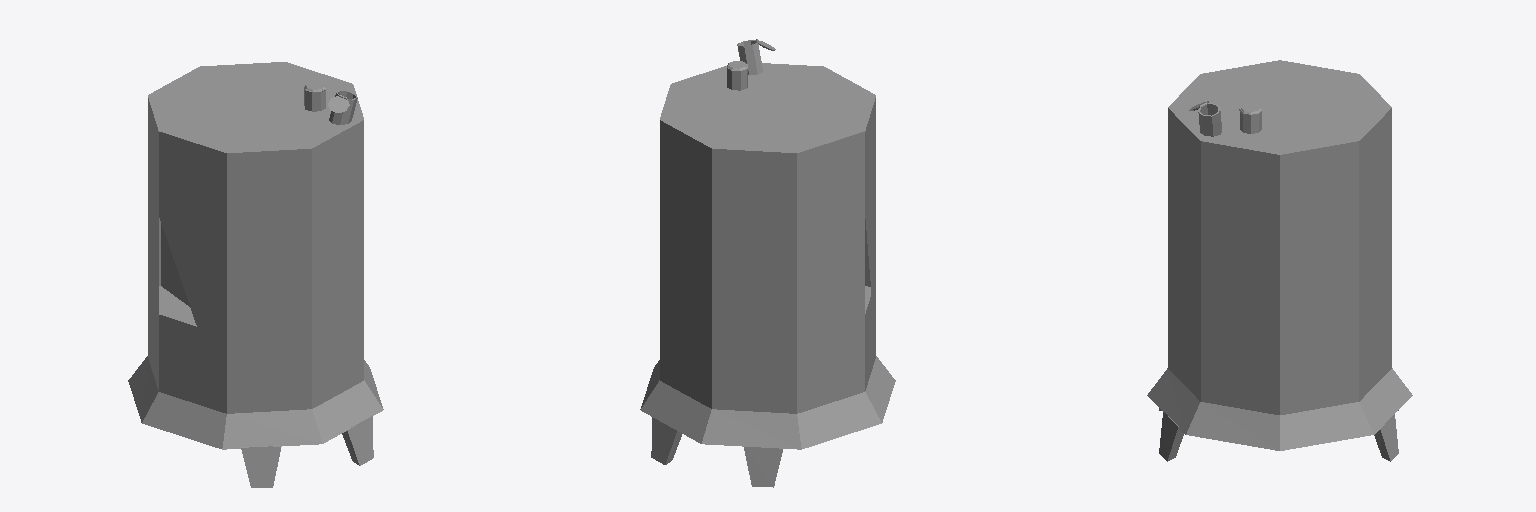
File: boiler.obj
3 views of the same model, side by side, from view 1: azimuth 30°, elevation 25°; view 2: azimuth 150°, elevation 25°; view 3: azimuth 270°, elevation 25° (orthographic).
Parts seen in each view (by area): view 1: boiler_Cylinder.001; view 2: boiler_Cylinder.001; view 3: boiler_Cylinder.001.
Part boxes in pixels (bbox=[...]): boiler_Cylinder.001: bbox=[128, 62, 383, 487]; boiler_Cylinder.001: bbox=[640, 39, 895, 487]; boiler_Cylinder.001: bbox=[1147, 60, 1412, 461].
Size of the model in its own units: 2.35 by 3.47 by 2.37.